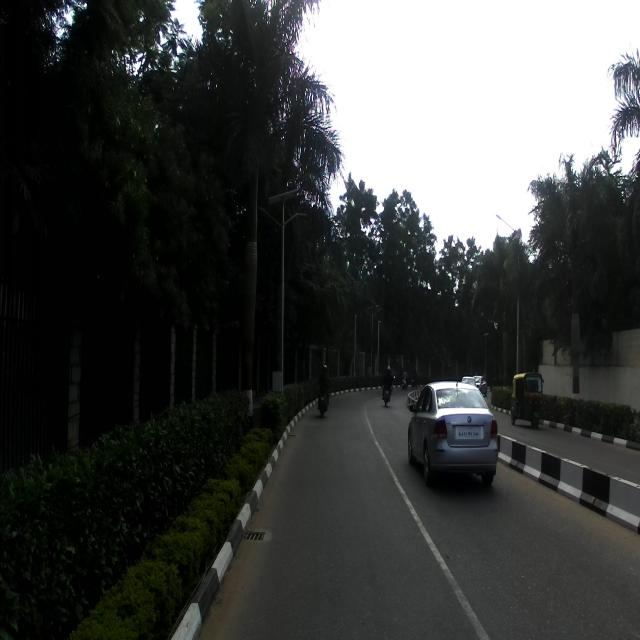car: (405, 380, 498, 490)
